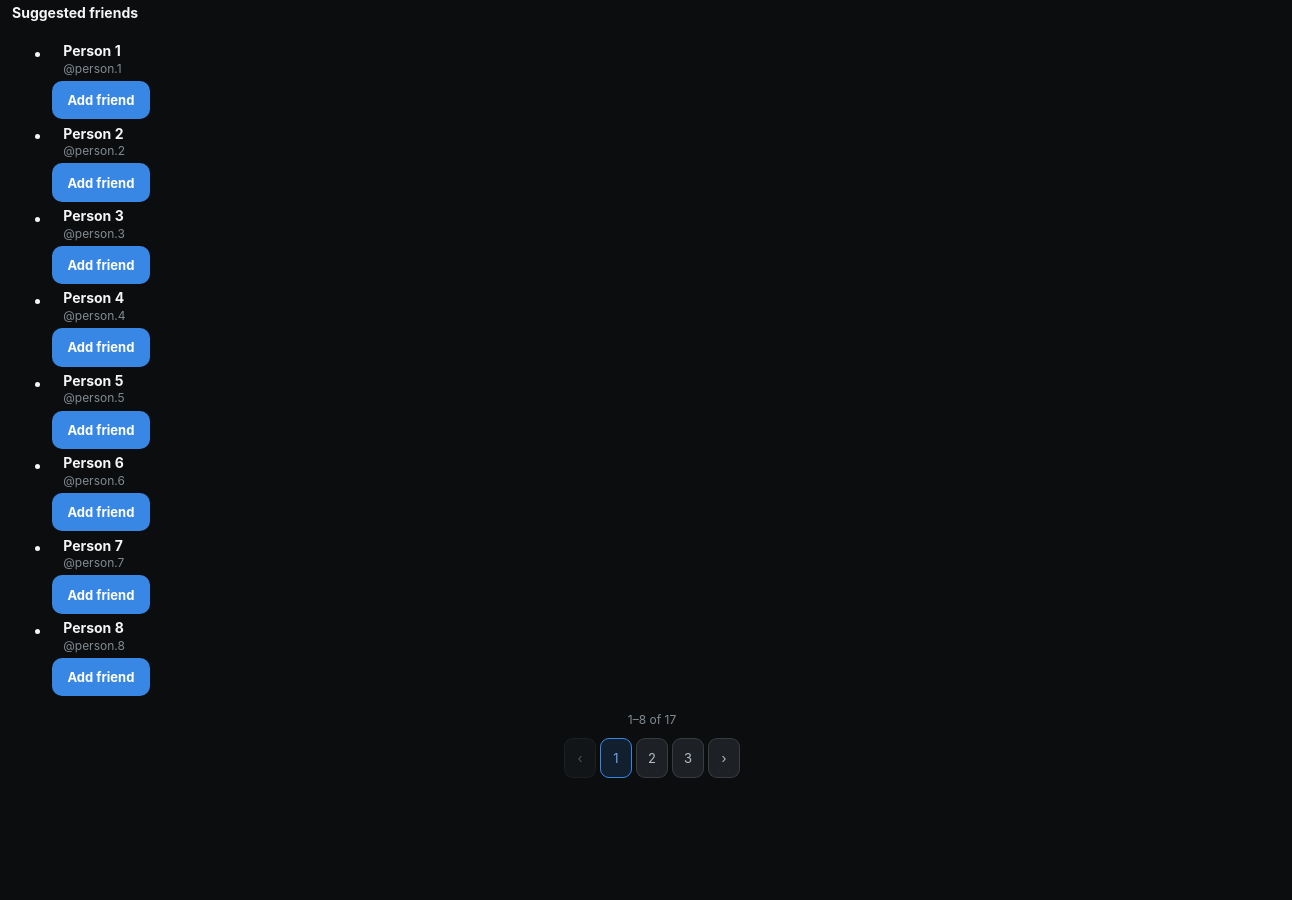
Test case: adds separately, refreshes the list and corrects a removed last page
The image size is (1292, 900).
Click the button "3". click: (688, 758)
box: [672,738,704,778]
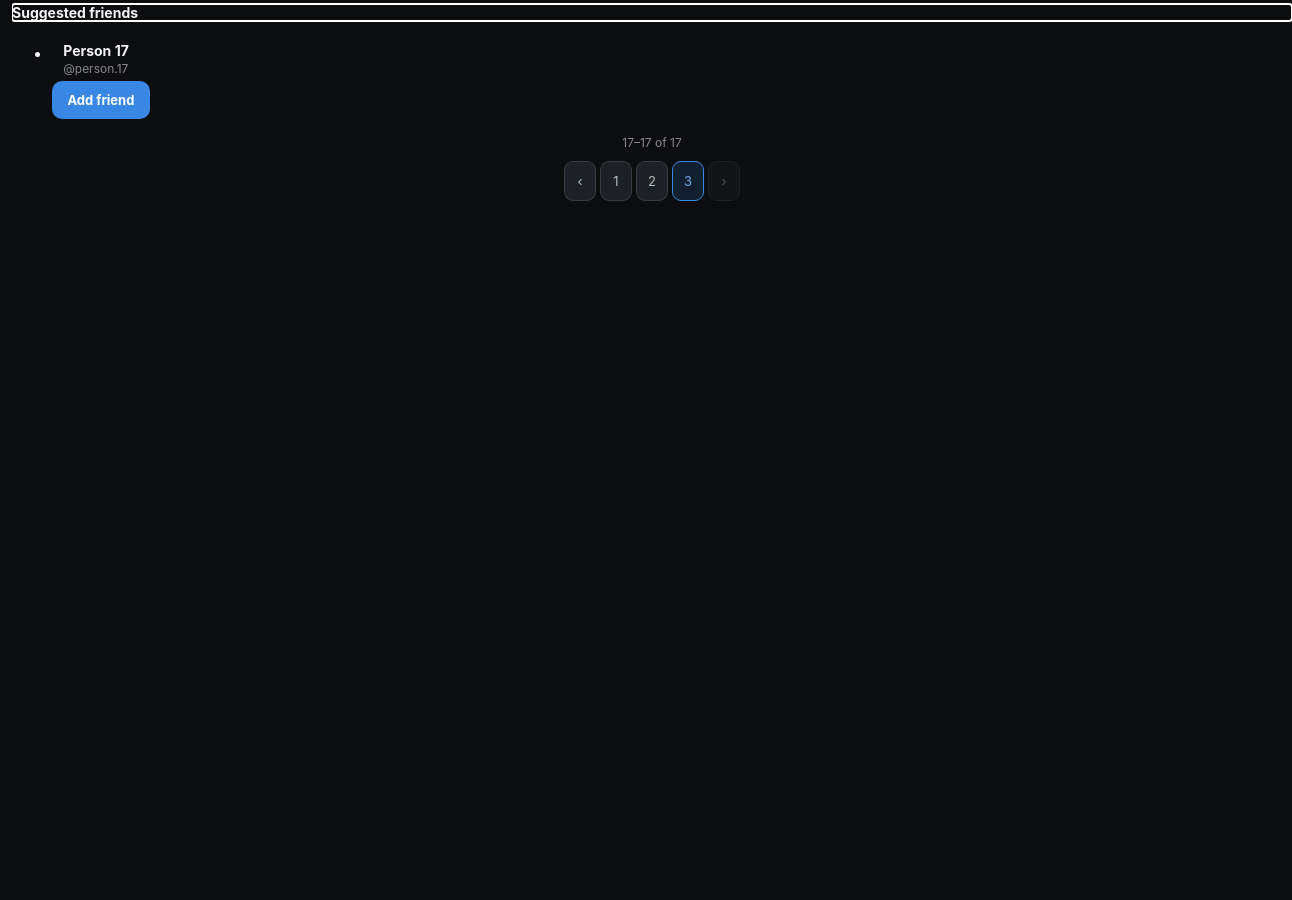
Click the button "Add friend". click: (101, 100)
box: [52,81,150,119]
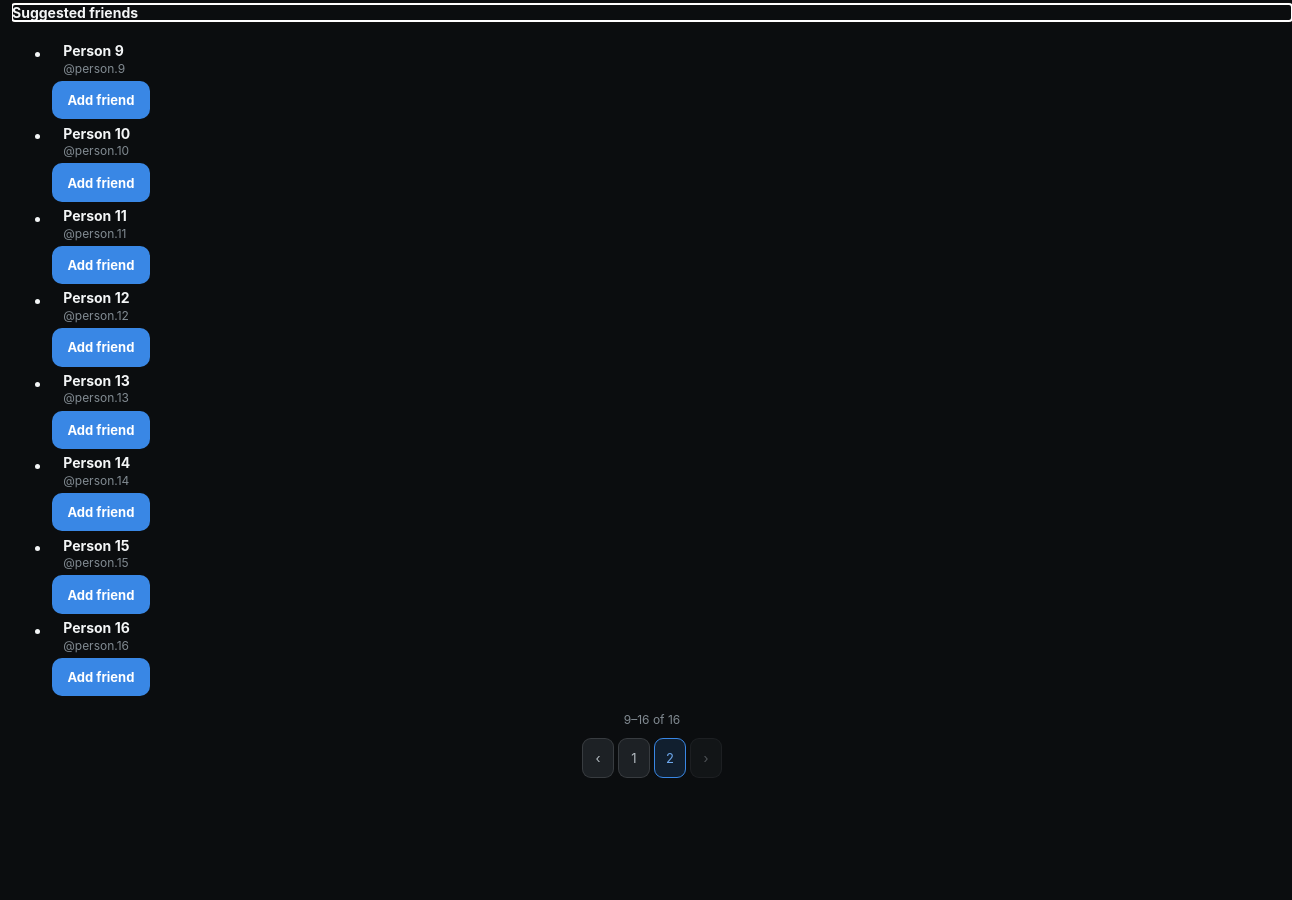
Expected: the text "9–16 of 16" is shown, [624,712,680,727]
Expected: the number of list items is 8
